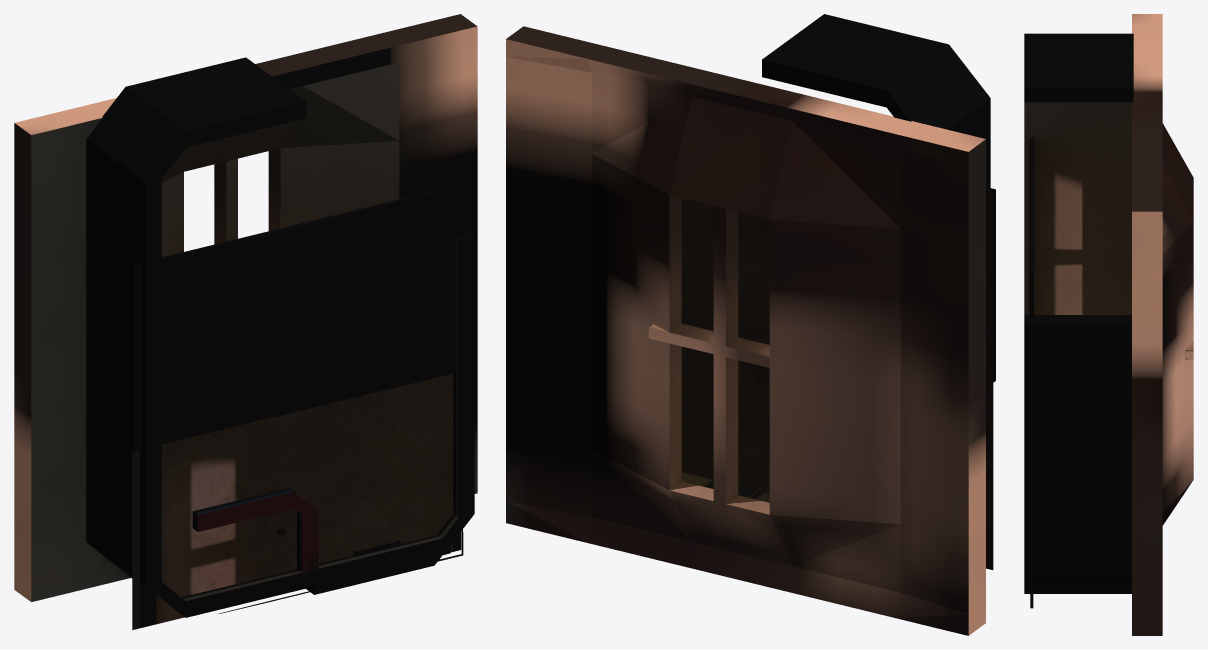
The model's file is mainmenu.dae.
The picture shows the model from 3 angles, left to right: view 1: azimuth 30°, elevation 25°; view 2: azimuth 150°, elevation 25°; view 3: azimuth 270°, elevation 25°; orthographic projection. The views are drawn at different scales.
Parts seen in each view (by area): view 1: roof, floor2, floor, wall2, wall, wall3, desk; view 2: roof, wall2, floor, floor2; view 3: roof, wall2, wall3, wall, floor2.
Part boxes in pixels (<box>): roof: <box>14,14,477,601</box>; floor2: <box>132,184,463,450</box>; floor: <box>132,373,463,629</box>; wall2: <box>86,57,306,459</box>; wall: <box>86,416,450,617</box>; wall3: <box>306,193,474,594</box>; desk: <box>192,488,318,574</box>; roof: <box>506,26,985,635</box>; wall2: <box>762,14,990,188</box>; floor: <box>681,307,993,569</box>; floor2: <box>681,187,995,382</box>; roof: <box>1132,14,1193,635</box>; wall2: <box>1024,33,1133,312</box>; wall3: <box>1024,315,1131,593</box>; wall: <box>1024,313,1131,593</box>; floor2: <box>1029,137,1033,318</box>.
Size of what is drawn, in the model's own units: 55.61 by 20.16 by 59.
15 materials, 15 textured.
